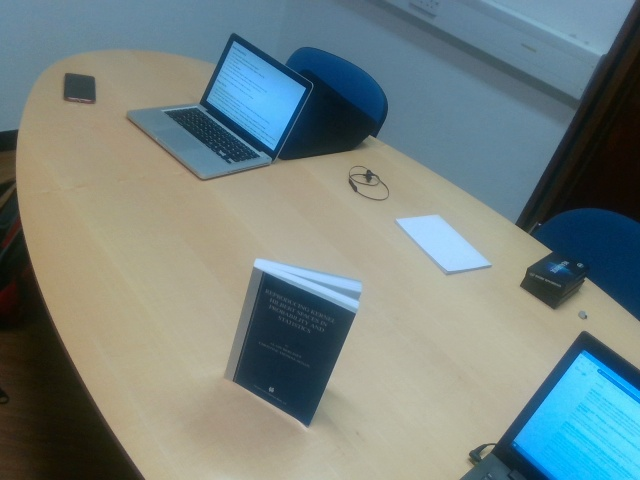book: (256, 256, 307, 428)
